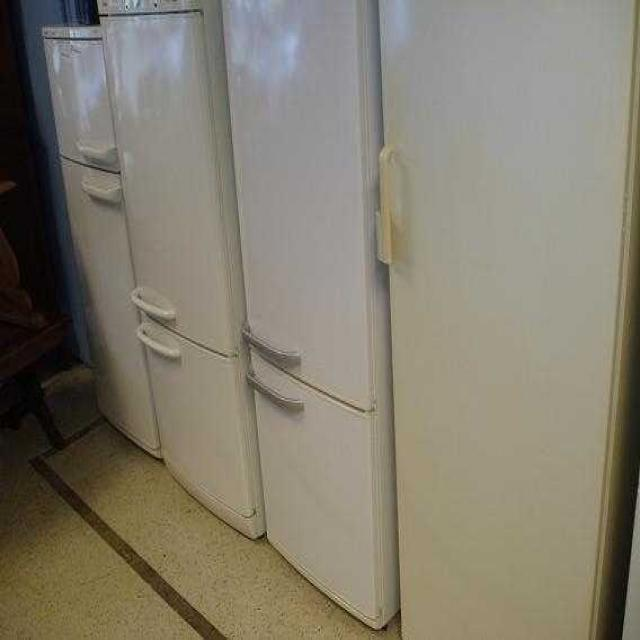refrigerator: (380, 0, 606, 637), (97, 0, 266, 537), (220, 0, 373, 573), (44, 29, 163, 458)
